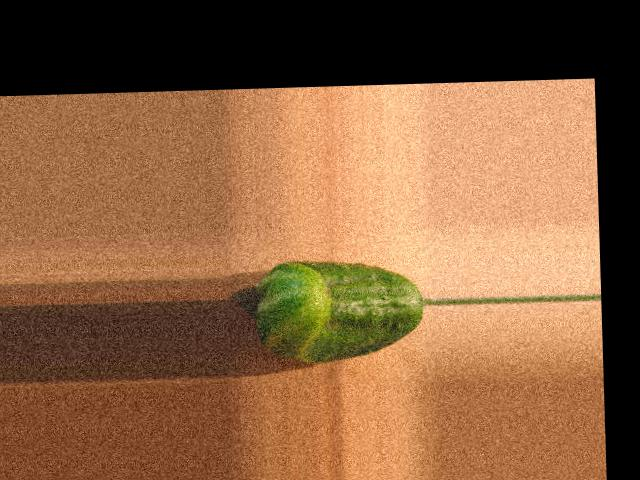cucumber: (255, 256, 425, 363)
